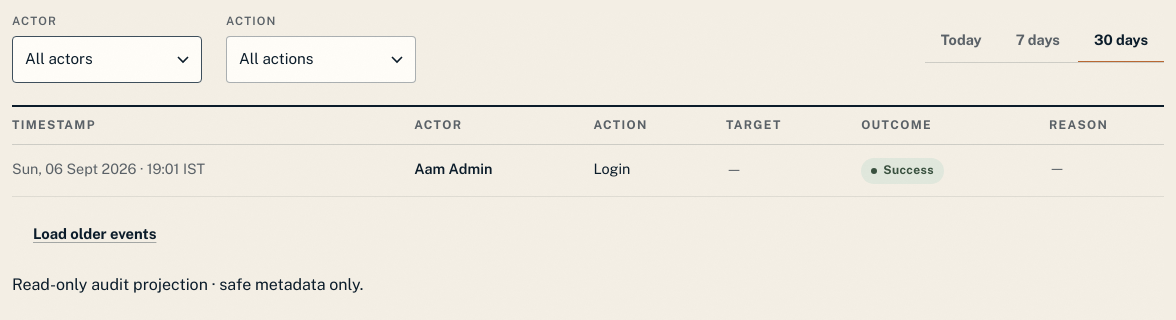
Scenario: AuditExplorer pagination › offers to load older events when the current filter matches nothing
Click the button "Today": x=961, y=40 [925, 18, 998, 63]
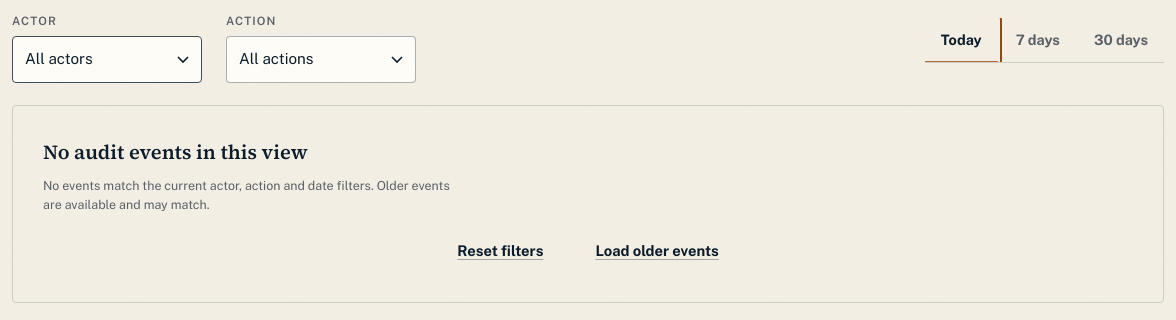
Now the text "No audit events in this view" is shown, box [43, 138, 308, 166]
Now the text "Older events are available and may match." is shown, box [43, 178, 450, 212]
Now the button "Reset filters" is shown, box [436, 230, 564, 272]
